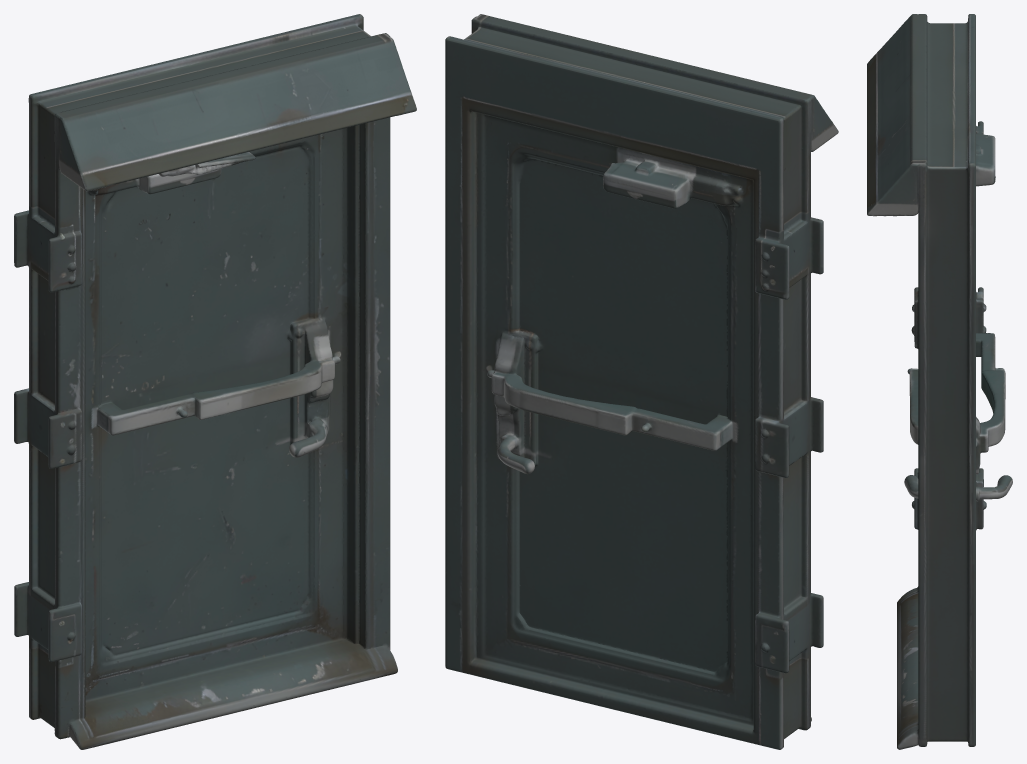
The model's file is rooftop_metal_service_door.glb.
The picture shows the model from 3 angles, left to right: view 1: azimuth 30°, elevation 25°; view 2: azimuth 150°, elevation 25°; view 3: azimuth 270°, elevation 25°; orthographic projection. The views are drawn at different scales.
Parts seen in each view (by area): view 1: tripo_node_570517f0-0c2c-479d-aaa7-941aec4ec7e1; view 2: tripo_node_570517f0-0c2c-479d-aaa7-941aec4ec7e1; view 3: tripo_node_570517f0-0c2c-479d-aaa7-941aec4ec7e1.
Boxes of the visible parts, x1=… form: tripo_node_570517f0-0c2c-479d-aaa7-941aec4ec7e1: x1=14, y1=14, x2=416, y2=749; tripo_node_570517f0-0c2c-479d-aaa7-941aec4ec7e1: x1=445, y1=14, x2=838, y2=749; tripo_node_570517f0-0c2c-479d-aaa7-941aec4ec7e1: x1=867, y1=14, x2=1012, y2=749.
Bounding box in the file's own units: 0.5701 × 1 × 0.225.
1 material, 1 textured.
